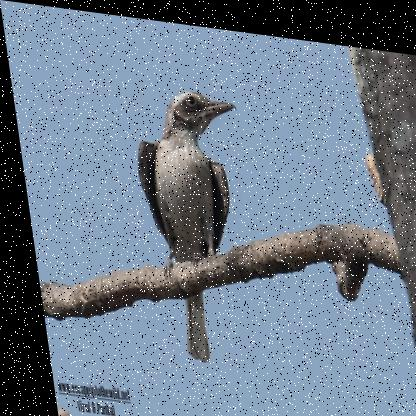Burung: (123, 79, 262, 365)
